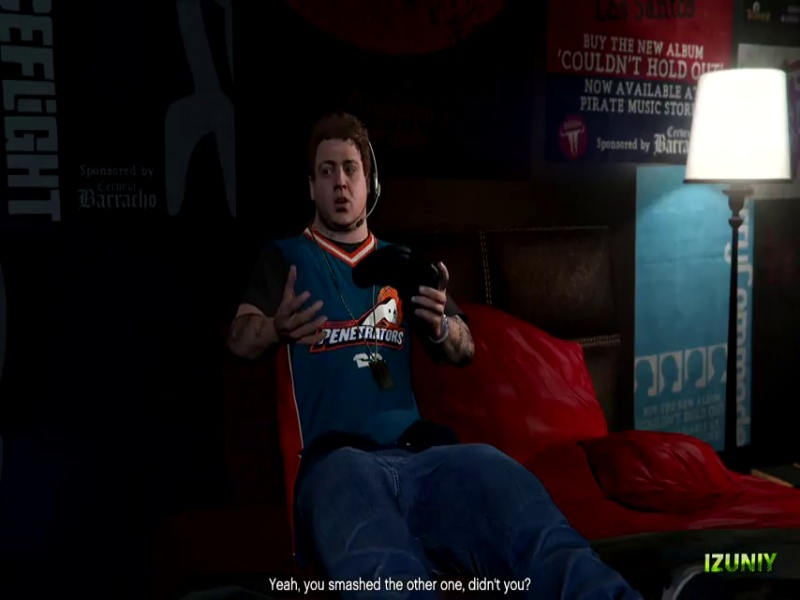human: (249, 112, 487, 500)
